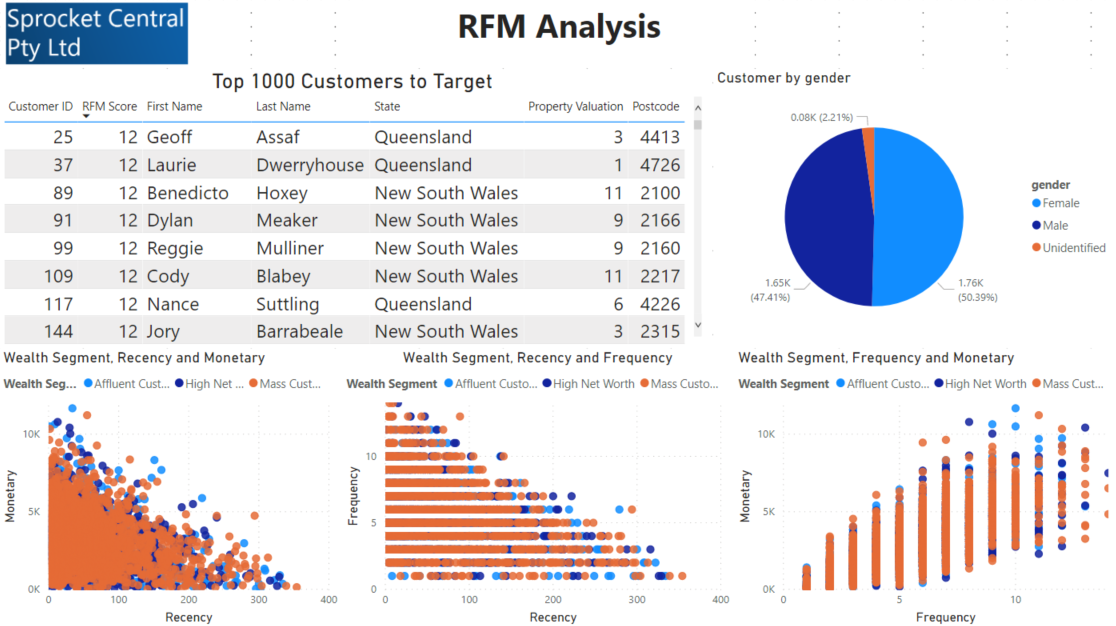

The page's visual inventory and layout, read from the dashboard file:
{"tool":"powerbi","page":{"name":"Top 1000 Customer List","canvas":[1280,720],"ordinal":7},"visuals":[{"type":"tableEx","title":"Top 1000 Customers to Target","fields":{"Values":["RFM_Analysis.customer_id","RFM_Analysis.RFM_Score","FinalDataset.first_name","FinalDataset.last_name","FinalDataset.state","FinalDataset.property_valuation","FinalDataset.postcode"]},"box":[0,80,808,320],"z":0},{"type":"pieChart","fields":{"Y":["RFM_Analysis.customer_id"],"Category":["FinalDataset.gender"]},"box":[816,80,464,320],"z":2000},{"type":"scatterChart","fields":{"X":["RFM_Analysis.recency"],"Y":["RFM_Analysis.monetary"],"Series":["FinalDataset.wealth_segment"]},"box":[0,400,392,320],"z":3000},{"type":"scatterChart","fields":{"Series":["FinalDataset.wealth_segment"],"X":["RFM_Analysis.frequency"],"Y":["RFM_Analysis.monetary"]},"box":[840,400,440,320],"z":4000},{"type":"scatterChart","fields":{"X":["RFM_Analysis.recency"],"Y":["RFM_Analysis.frequency"],"Series":["FinalDataset.wealth_segment"]},"box":[392,400,448,320],"z":5000},{"type":"textbox","box":[416,0,448,72],"z":6000},{"type":"image","box":[0,0,288,80],"z":6001}]}

Visuals, with their boxes in screenshot pixels (x1, y1, x2, y2), scaled from the page's 1280x720 canvas onto the 1116x626 screenshot:
"Top 1000 Customers to Target" tableEx: (0,70,704,348)
pieChart - RFM_Analysis.customer_id x FinalDataset.gender: (711,70,1115,348)
scatterChart - RFM_Analysis.recency x RFM_Analysis.monetary: (0,348,342,625)
scatterChart - FinalDataset.wealth_segment x RFM_Analysis.frequency: (732,348,1115,625)
scatterChart - RFM_Analysis.recency x RFM_Analysis.frequency: (342,348,732,625)
textbox: (363,0,753,63)
image: (0,0,251,70)
